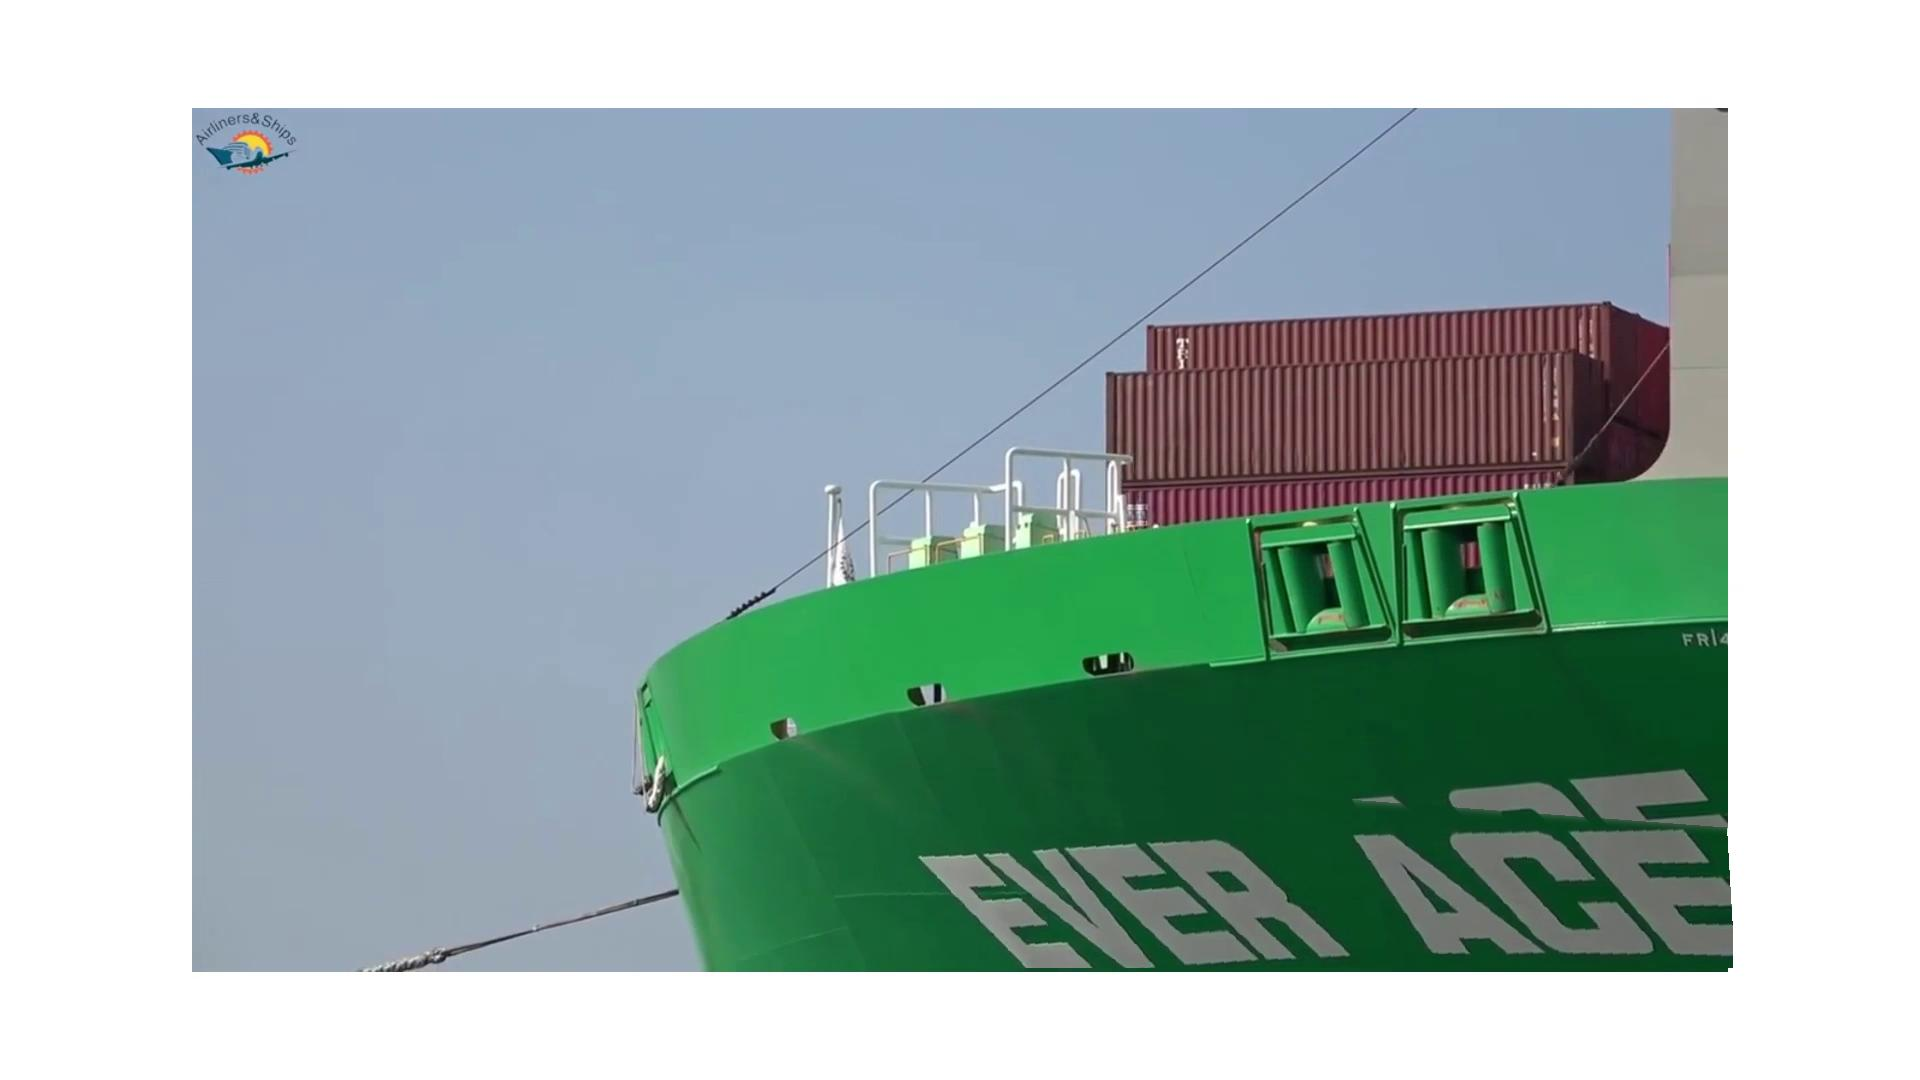OCR: (869, 764, 1734, 968)
